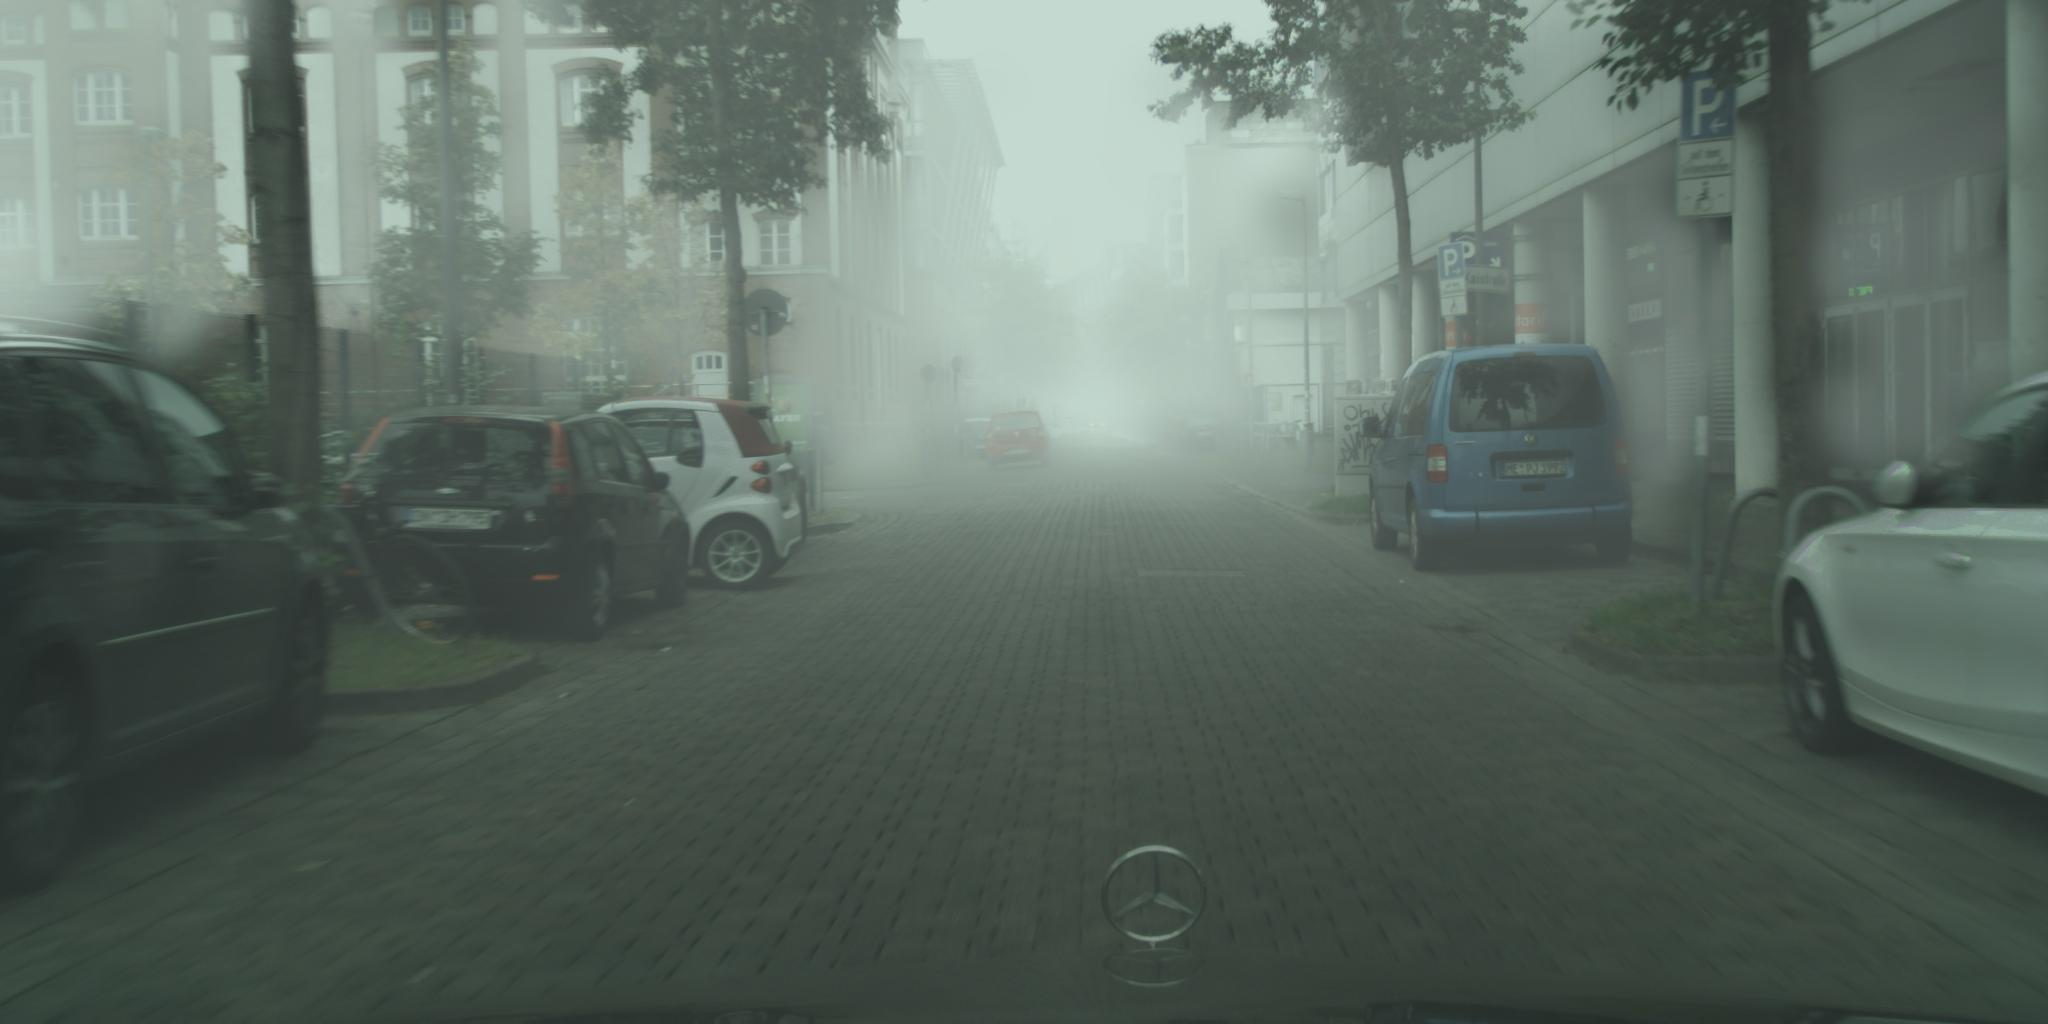bicycle: (300, 481, 478, 647), (1260, 417, 1307, 453)
car: (1, 312, 334, 899), (1772, 370, 2048, 799), (330, 408, 694, 645), (1358, 344, 1634, 573), (592, 397, 808, 592), (986, 411, 1053, 473), (957, 418, 1010, 462), (1040, 424, 1063, 440), (1089, 415, 1108, 434), (1064, 417, 1081, 435), (1050, 421, 1064, 438)
